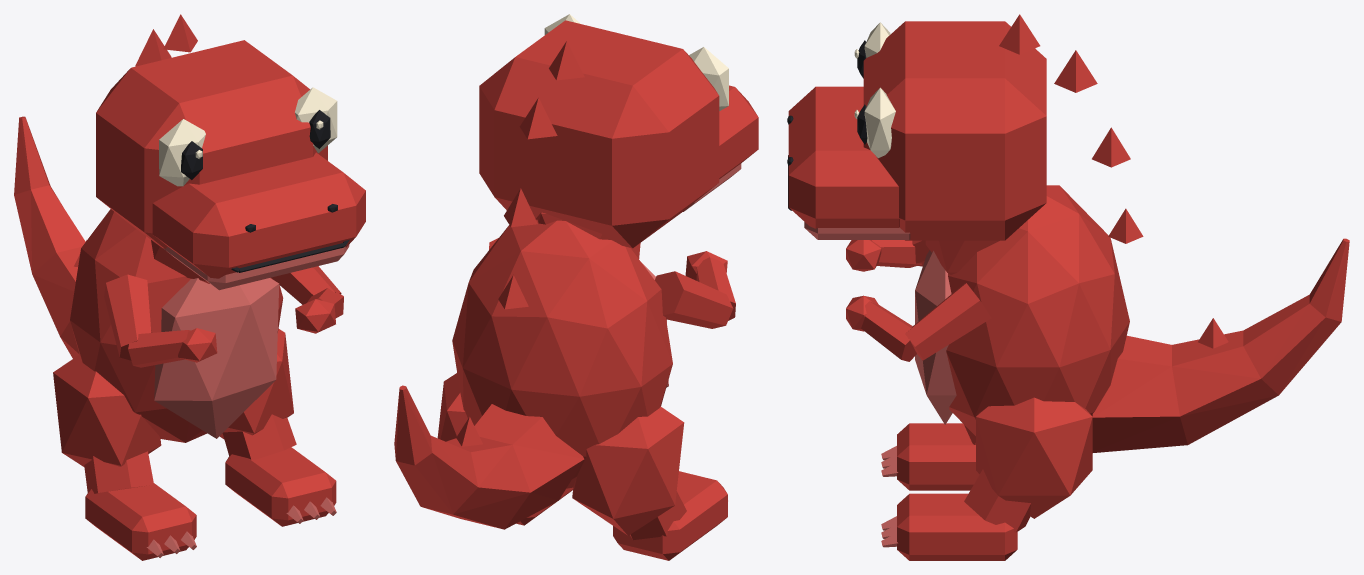
The model's file is Dinosaure_rouge.glb.
3 renders of one model, left to right at view 1: azimuth 30°, elevation 25°; view 2: azimuth 150°, elevation 25°; view 3: azimuth 270°, elevation 25°, orthographic. The views are drawn at different scales.
Parts seen in each view (by area): view 1: Dinosaure_rouge; view 2: Dinosaure_rouge; view 3: Dinosaure_rouge.
Part boxes in pixels (x1,y1,x2,y2): Dinosaure_rouge: (14, 14, 365, 560); Dinosaure_rouge: (394, 14, 758, 560); Dinosaure_rouge: (787, 14, 1349, 560).
Bounding box in the file's own units: 1.28 × 2.66 × 2.7.
